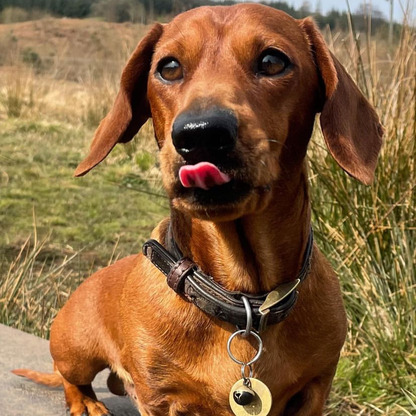dachshund: (87, 6, 393, 404)
